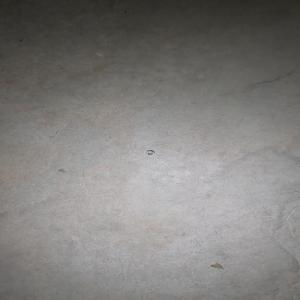Nut: (145, 150, 155, 155)
